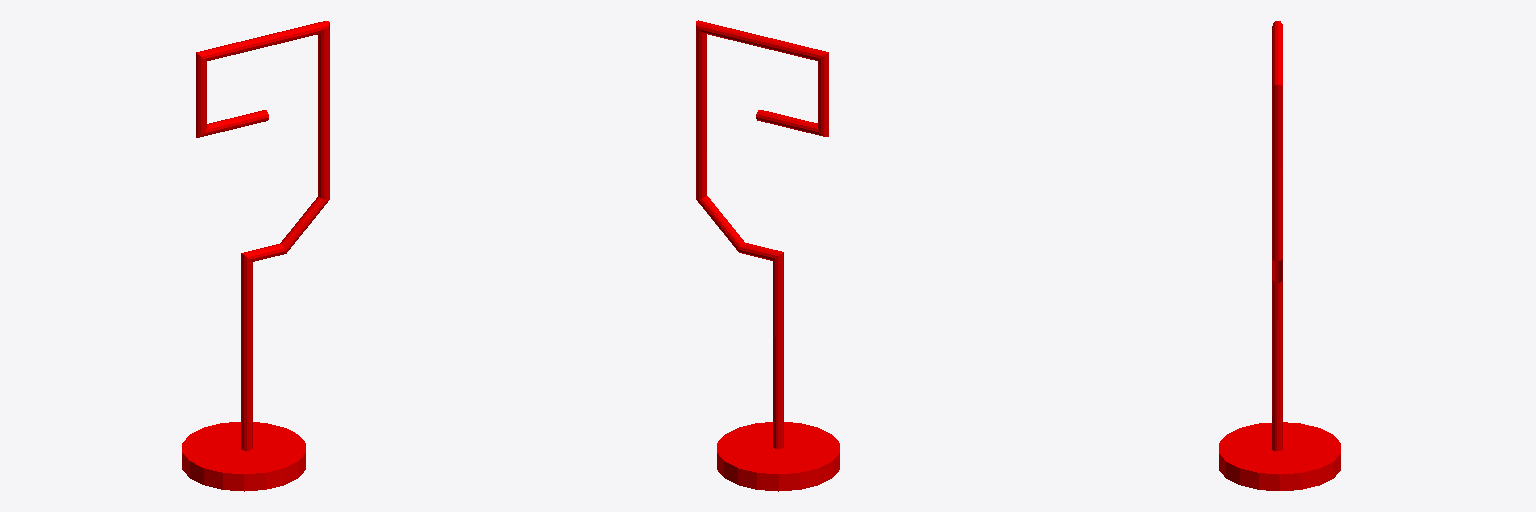
The robot description file, URDF, robot "ring":
<?xml version="0.0" ?>
<robot name="ring">
    <material name="white">
        <color rgba="1 0 0 1"/>
    </material>

    <link name="baseLink">
        <!-- from lego/lego.urdf -->
        <contact>
            <lateral_friction value="1.0"/>
            <rolling_friction value="0.0"/>
            <contact_cfm value="0.0"/>
            <contact_erp value="1.0"/>
        </contact>
        <inertial>
            <origin rpy="0 0 0" xyz="0 0 0"/>
            <mass value="0.01"/>
            <inertia ixx="1" ixy="0" ixz="0" iyy="1" iyz="0" izz="1"/>
        </inertial>
        <visual>
            <origin rpy="1.57 0 0" xyz="0 0 0"/>
            <geometry>
                <!--        radius: 10mm, depth: 14.5mm-->
                <mesh filename="meshes/g1.obj" scale="1 1 1"/>
                <!--        <box size="0.002 0.002 0.002"/>-->
            </geometry>
            <material name="white"/>
        </visual>
        <collision>
            <origin rpy="1.57 0 0" xyz="0 0 0"/>
            <geometry>
                <mesh filename="meshes/g1_vhacd.obj" scale="1 1 1"/>
                       <!-- <box size="2 2 2"/> -->
            </geometry>
        </collision>
    </link>
</robot>

--- What the picture shows (computed from the rendered views, not written in the file) ---
Views: 3 orthographic renders of the robot side by side, from view 1: azimuth 30°, elevation 25°; view 2: azimuth 150°, elevation 25°; view 3: azimuth 270°, elevation 25°.
Model ring with 1 links and 0 joints (none), rooted at baseLink, posed every joint at zero.
Visible links, largest first — view 1: baseLink; view 2: baseLink; view 3: baseLink.
Boxes of the visible links, left/top/right/bottom form: baseLink: left=182, top=21, right=329, bottom=491; baseLink: left=696, top=20, right=839, bottom=491; baseLink: left=1219, top=21, right=1340, bottom=490.
Bounding box of the posed robot: 0.0398 × 0.031 × 0.1173 m (x, y, z).
1 mesh visuals loaded from 1 distinct referenced files (1 OBJ).